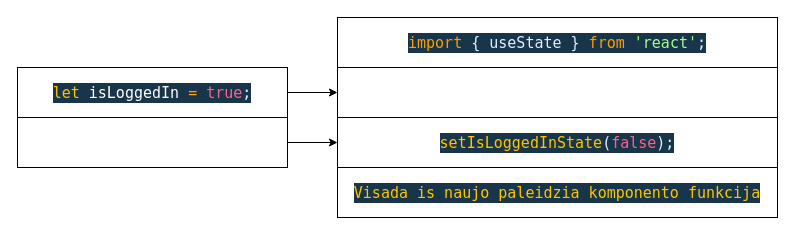
Image size: 795x235. Some labels were removed from this diagram. The shapes that lost their labels are listed below. From the top down, each one's centre as x and y in pixels, then its label:
point (557, 92): const [ isLoggedInState , setIsLoggedInState ] = useState ( true );
point (152, 142): isLoggedIn = false ;
